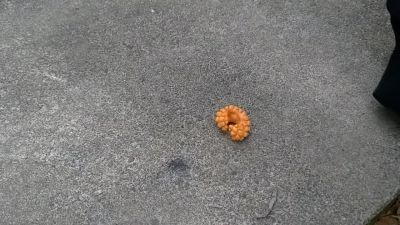eggs: (215, 104, 252, 143)
